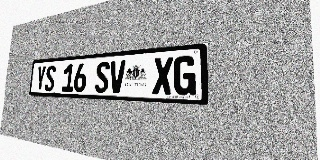1: (62, 64, 75, 92)
6: (73, 63, 87, 92)
G: (173, 55, 196, 95)
S: (94, 61, 110, 93), (44, 65, 56, 91)
V: (109, 60, 126, 93)
X: (153, 57, 173, 95)
Y: (35, 66, 46, 91)
